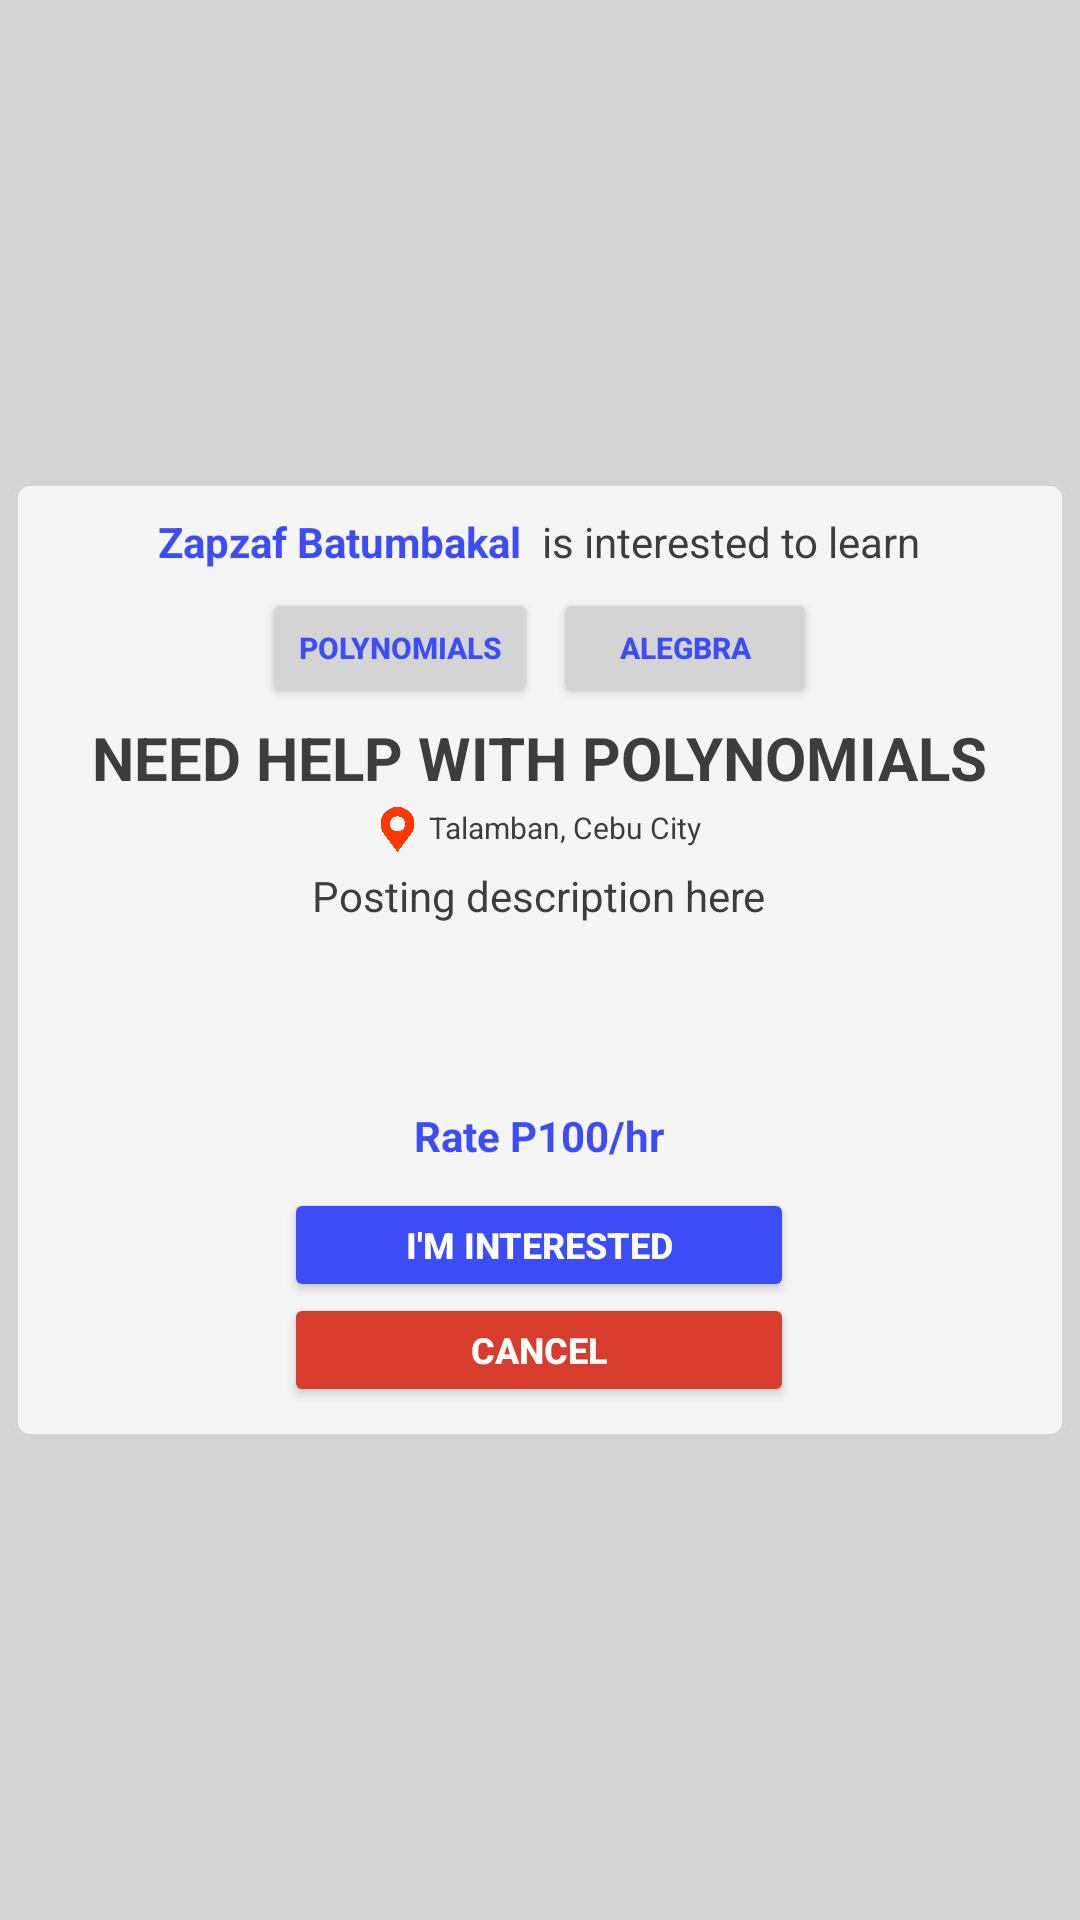

Icon click points for this 1080 x 1920 phone screenshot, format (x=x, y=y):
map pin: (x=397, y=829)
